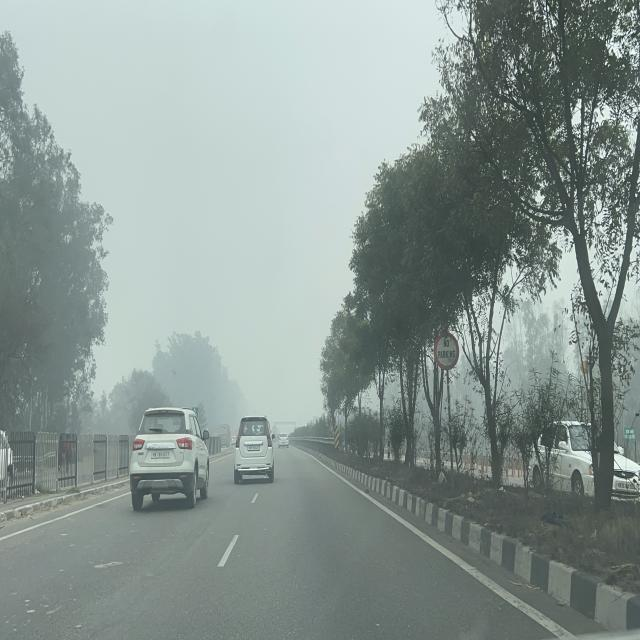NO_PARKING: (434, 332, 460, 371)
